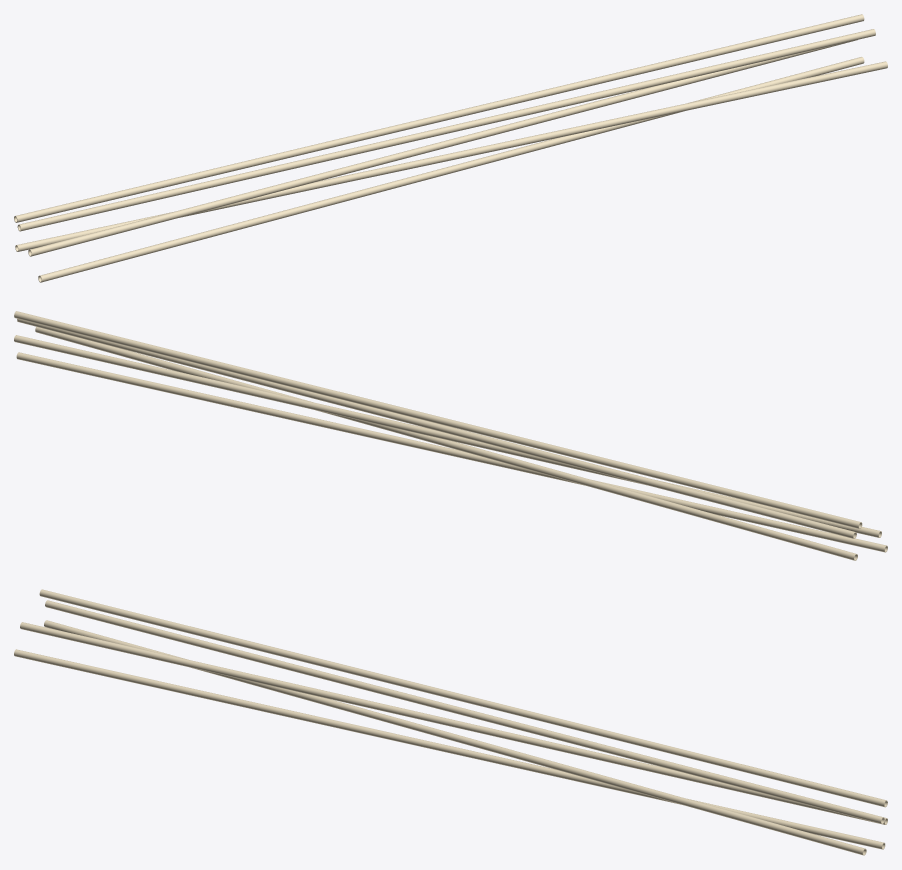
Rendered from HID-AGF-006_anim.glb.
The picture shows the model from 3 angles, top to bottom: view 1: azimuth 30°, elevation 25°; view 2: azimuth 150°, elevation 25°; view 3: azimuth 330°, elevation 25°; orthographic projection.
Parts seen in each view (by area): view 1: HID-AGF-006_anim3, HID-AGF-006_anim4, HID-AGF-006_anim2, HID-AGF-006_anim1, HID-AGF-006_anim0; view 2: HID-AGF-006_anim4, HID-AGF-006_anim0, HID-AGF-006_anim3, HID-AGF-006_anim1, HID-AGF-006_anim2; view 3: HID-AGF-006_anim4, HID-AGF-006_anim3, HID-AGF-006_anim2, HID-AGF-006_anim0, HID-AGF-006_anim1.
Part boxes in pixels (left/top/right/bottom): HID-AGF-006_anim3: left=17, top=29, right=875, bottom=231; HID-AGF-006_anim4: left=14, top=14, right=864, bottom=222; HID-AGF-006_anim2: left=28, top=40, right=857, bottom=256; HID-AGF-006_anim1: left=15, top=61, right=887, bottom=251; HID-AGF-006_anim0: left=38, top=57, right=864, bottom=282; HID-AGF-006_anim4: left=14, top=311, right=862, bottom=528; HID-AGF-006_anim0: left=16, top=352, right=887, bottom=552; HID-AGF-006_anim3: left=17, top=318, right=856, bottom=538; HID-AGF-006_anim1: left=35, top=327, right=857, bottom=560; HID-AGF-006_anim2: left=14, top=335, right=881, bottom=537; HID-AGF-006_anim4: left=39, top=589, right=887, bottom=807; HID-AGF-006_anim3: left=45, top=600, right=884, bottom=824; HID-AGF-006_anim2: left=20, top=622, right=887, bottom=824; HID-AGF-006_anim0: left=14, top=649, right=885, bottom=849; HID-AGF-006_anim1: left=44, top=620, right=866, bottom=855.
Size of the model in its own units: 3.03 by 0.1628 by 0.2017.
